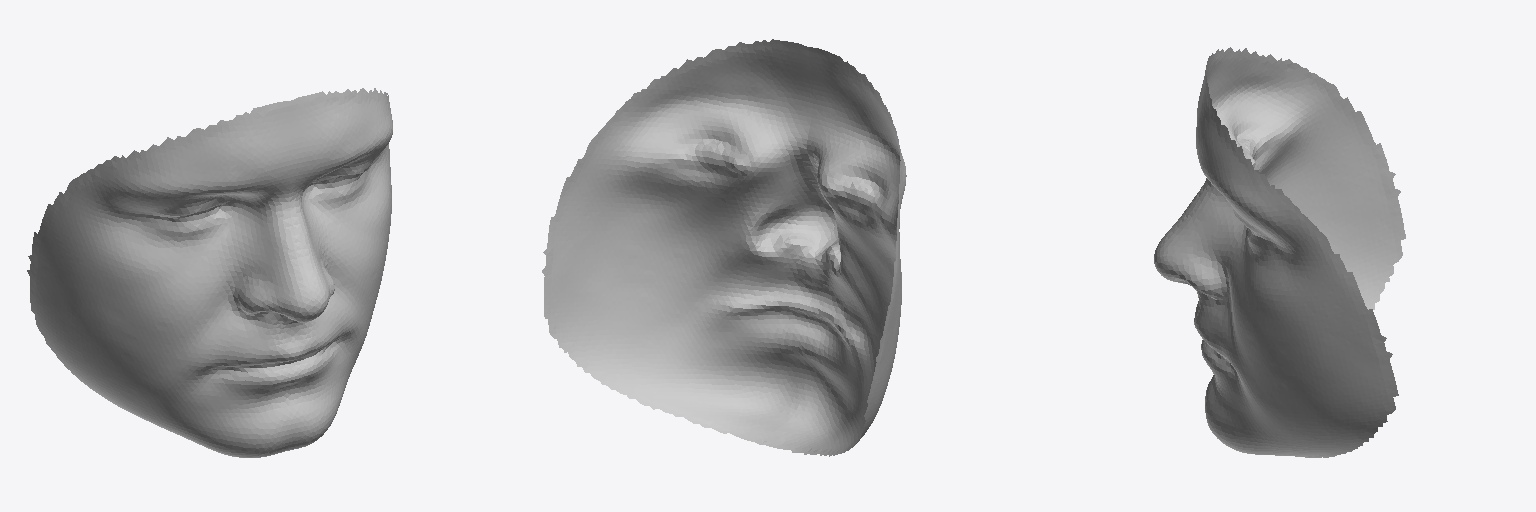
Rendered from SIMPOP_24.obj.
3 renders of one model, left to right at view 1: azimuth 30°, elevation 25°; view 2: azimuth 150°, elevation 25°; view 3: azimuth 270°, elevation 25°, orthographic.
Visible parts, largest first — view 1: SIMPOP_24; view 2: SIMPOP_24; view 3: SIMPOP_24.
Boxes of the visible parts, box(x1,y1,x2,y2) form: SIMPOP_24: box(27, 88, 392, 457); SIMPOP_24: box(542, 39, 906, 456); SIMPOP_24: box(1154, 47, 1405, 457).
Size of the model in its own units: 147 by 151 by 93.81.